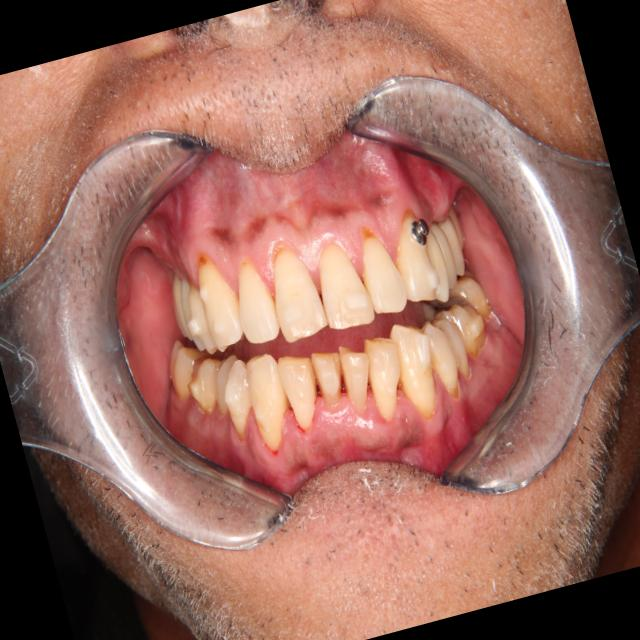tooth: (250, 229, 346, 358), (295, 221, 386, 345), (231, 337, 308, 465), (378, 191, 450, 318), (182, 240, 255, 363), (379, 309, 453, 429), (345, 213, 416, 326), (221, 248, 290, 361), (265, 342, 336, 444), (356, 326, 418, 430), (212, 350, 275, 449), (428, 287, 501, 371), (330, 333, 388, 426), (416, 310, 470, 409), (155, 330, 214, 416), (303, 338, 357, 421), (177, 348, 230, 430), (177, 274, 222, 363), (429, 307, 478, 387), (448, 266, 501, 334), (201, 350, 252, 420), (169, 270, 209, 357), (159, 264, 200, 348), (419, 222, 459, 307), (433, 205, 472, 281), (427, 212, 464, 291), (443, 198, 470, 250)
